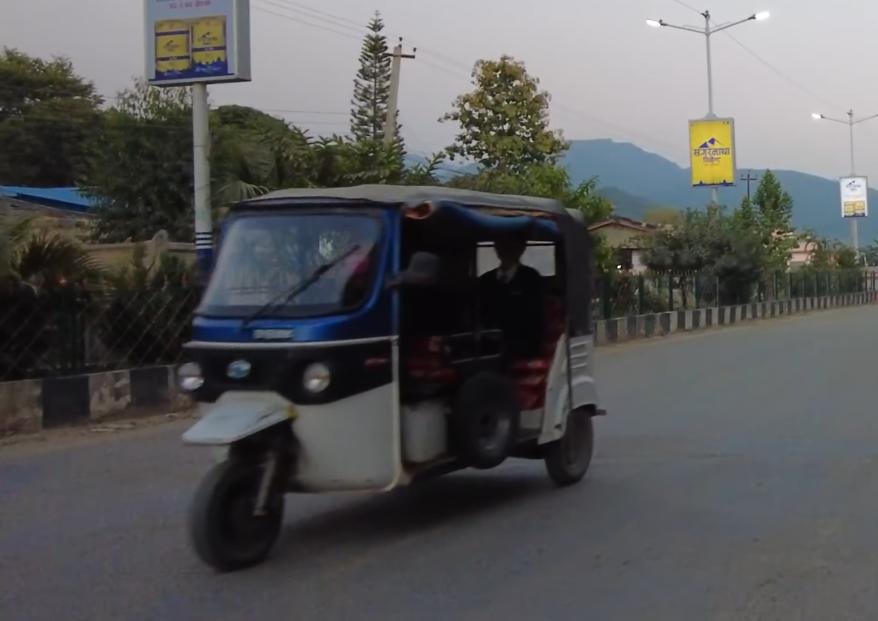auto_rickshaw: (165, 177, 632, 584)
